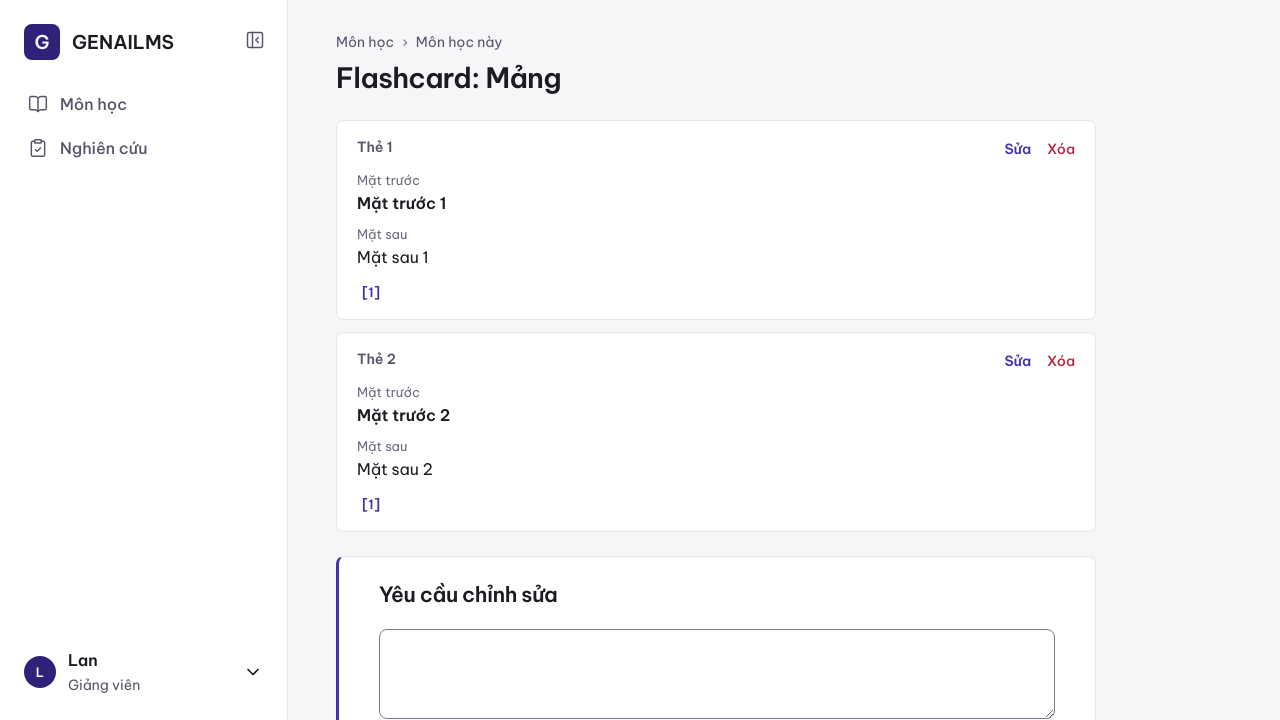
it: FlashcardEditorPage › removes a card after asking, saved at once
Click the button with aria-label "Xóa thẻ 1". click: (1061, 149)
box: [1047,139,1075,159]
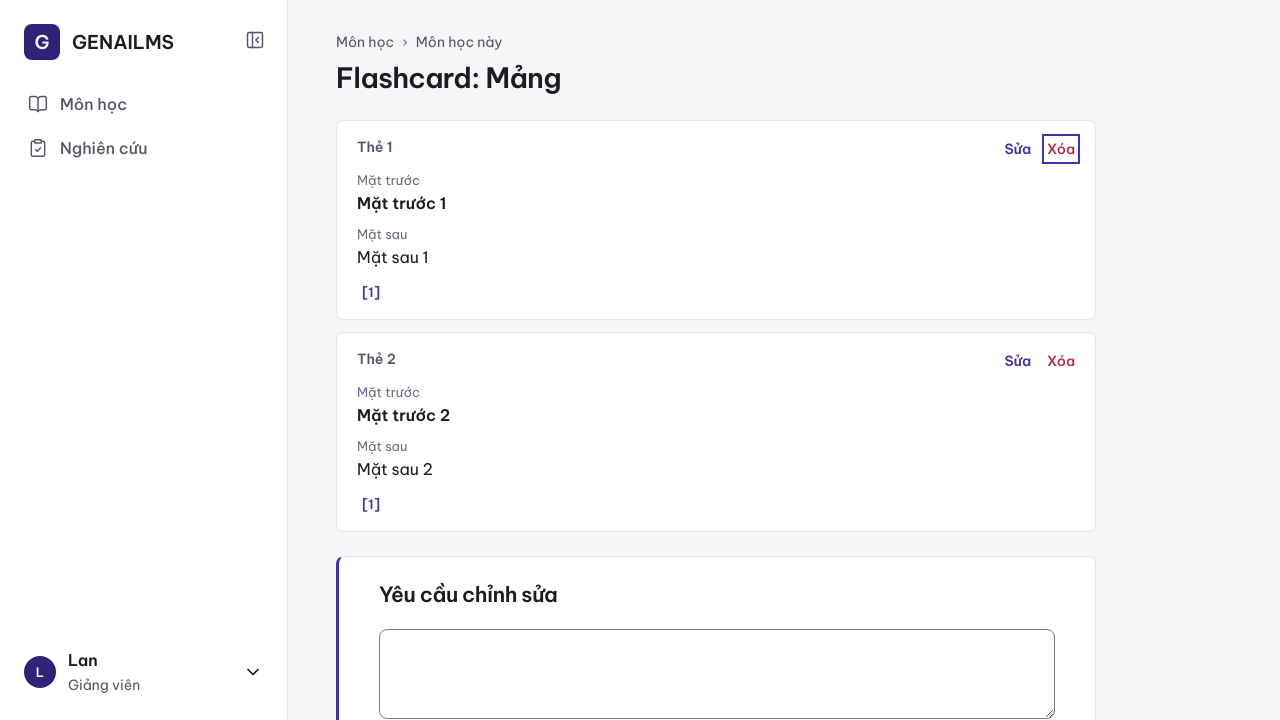
Click the button with aria-label "Xóa thẻ 1". click: (1061, 149)
box: [1047,139,1075,159]
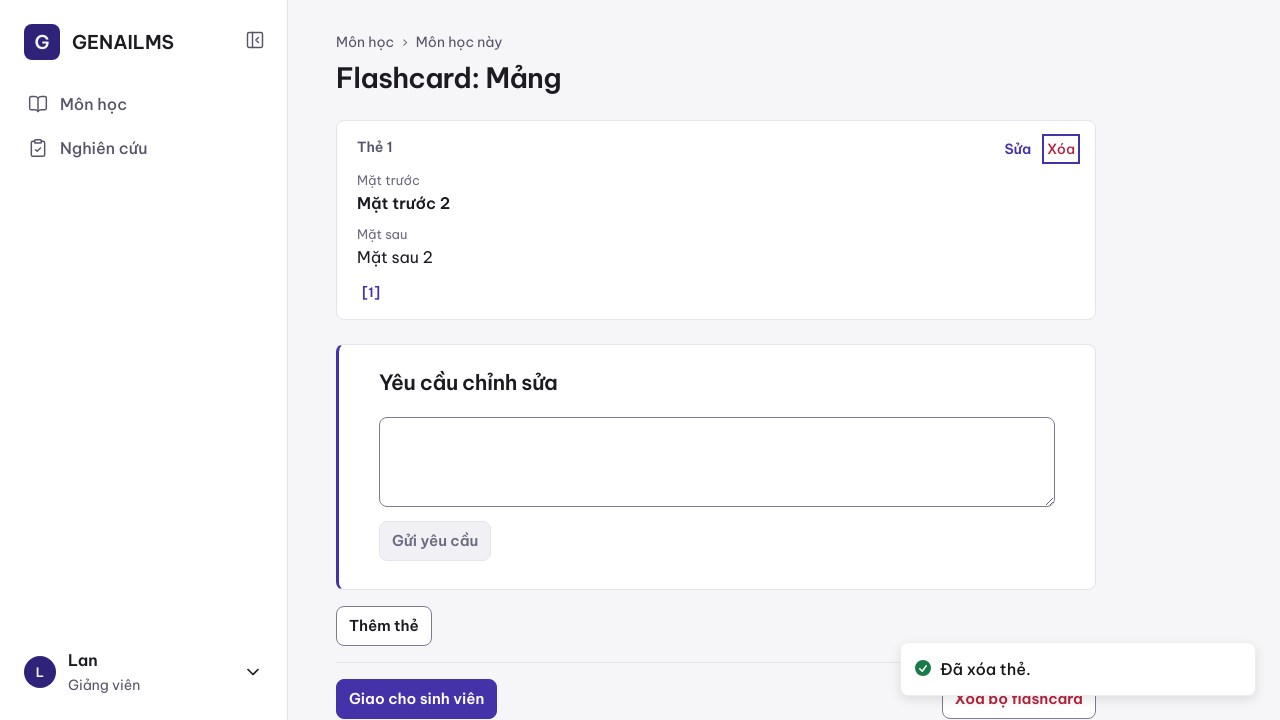
Result: the text "Đã xóa thẻ." is shown at [940,657,1031,681]
